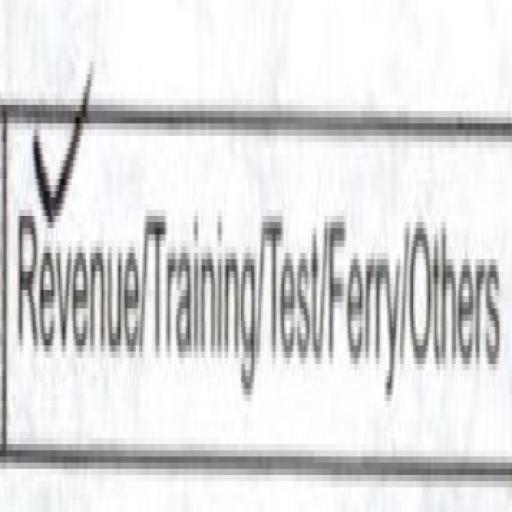check: (0, 37, 140, 512)
